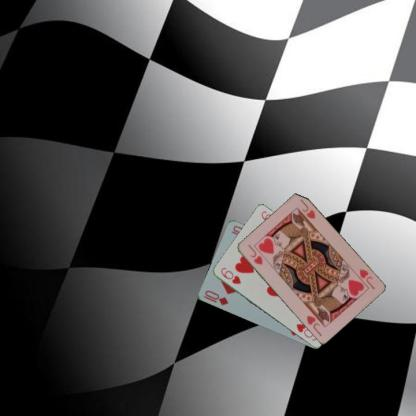10d: (201, 288, 230, 307)
6h: (218, 264, 242, 286)
Jh: (357, 266, 376, 291), (245, 242, 263, 266)
